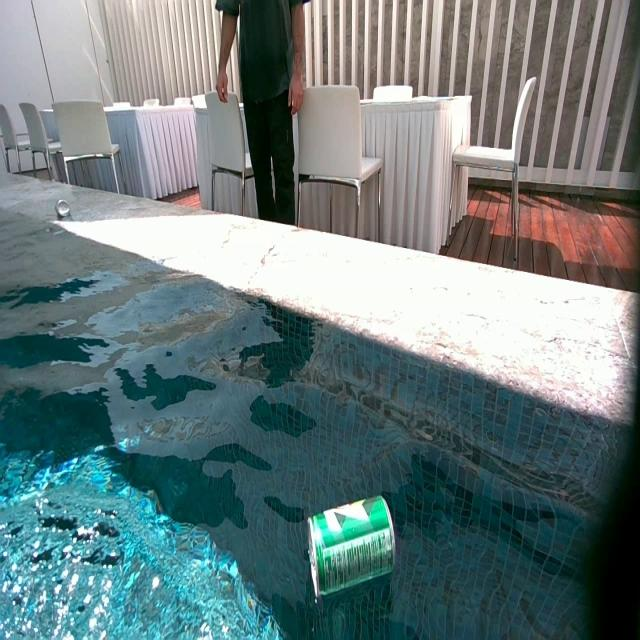Cans: (312, 494, 398, 604), (57, 198, 70, 217)
